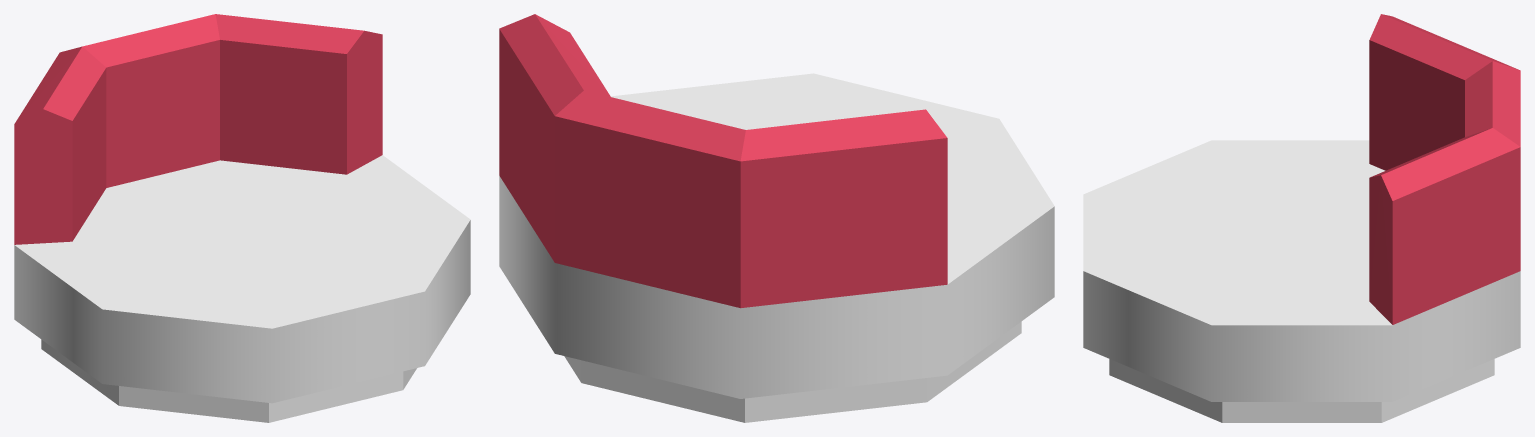
The model's file is Itr_Barchair_Seat_01.FBX.
3 views of the same model, side by side, from view 1: azimuth 30°, elevation 25°; view 2: azimuth 150°, elevation 25°; view 3: azimuth 270°, elevation 25° (orthographic). The views are drawn at different scales.
Visible parts, largest first — view 1: Itr_Barchair_Seat_01; view 2: Itr_Barchair_Seat_01; view 3: Itr_Barchair_Seat_01.
Boxes of the visible parts, box(x1,y1,x2,y2) form: Itr_Barchair_Seat_01: box(14, 14, 470, 422); Itr_Barchair_Seat_01: box(499, 14, 1054, 422); Itr_Barchair_Seat_01: box(1083, 14, 1520, 422).
Size of the model in its own units: 16.37 by 10.19 by 16.37.
